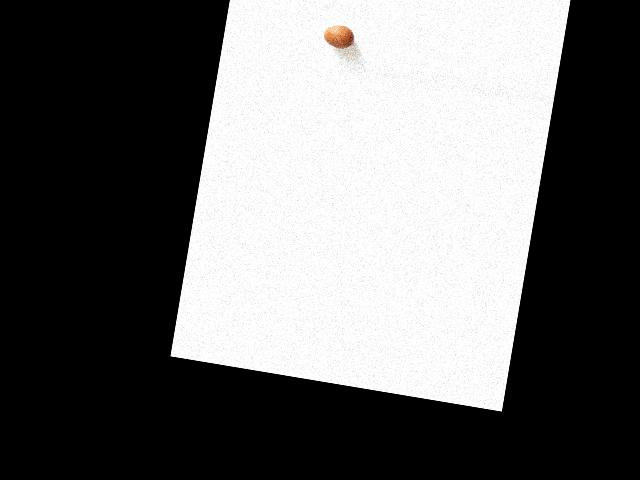egg: (322, 22, 356, 50)
